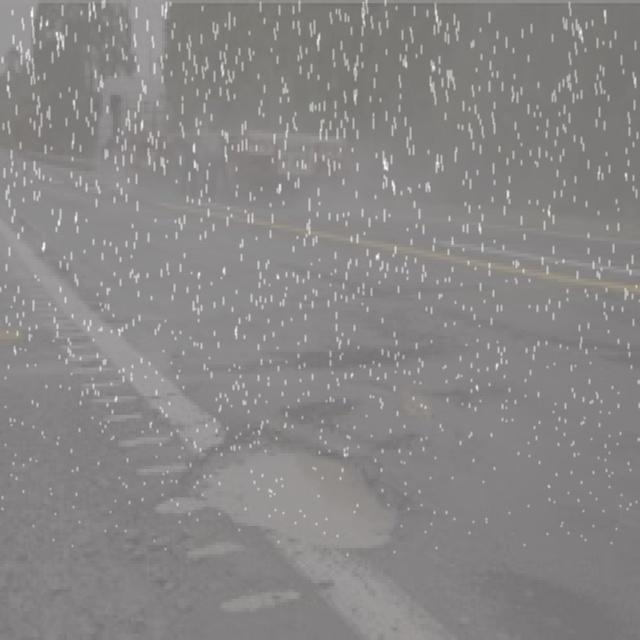Pothole: (151, 409, 442, 578), (508, 313, 640, 388), (303, 266, 409, 316), (284, 332, 385, 370), (400, 387, 463, 411)
